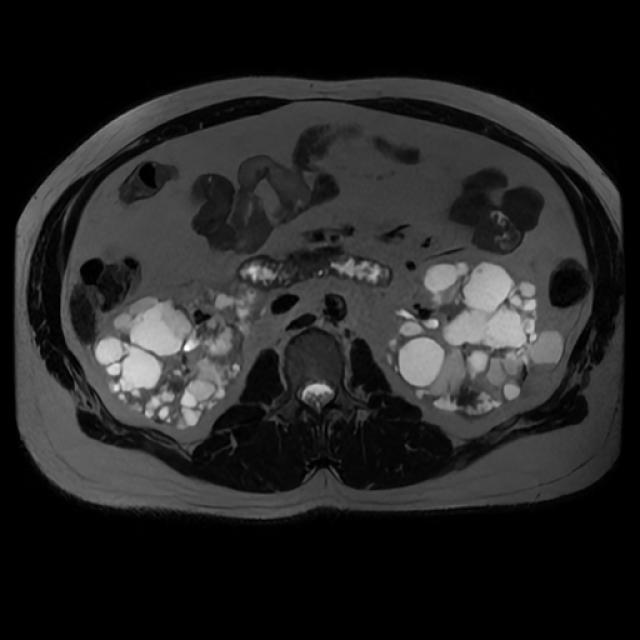sag: (94, 277, 272, 430)
sol: (385, 258, 565, 422)
